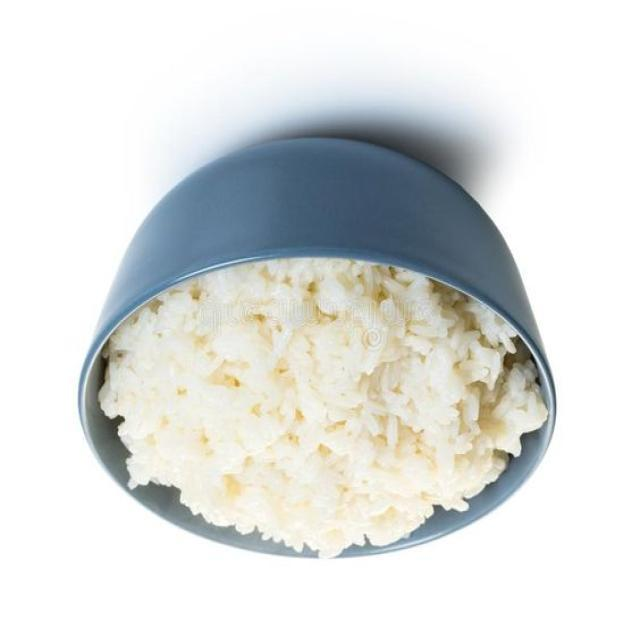nasi_putih: (93, 264, 558, 556)
